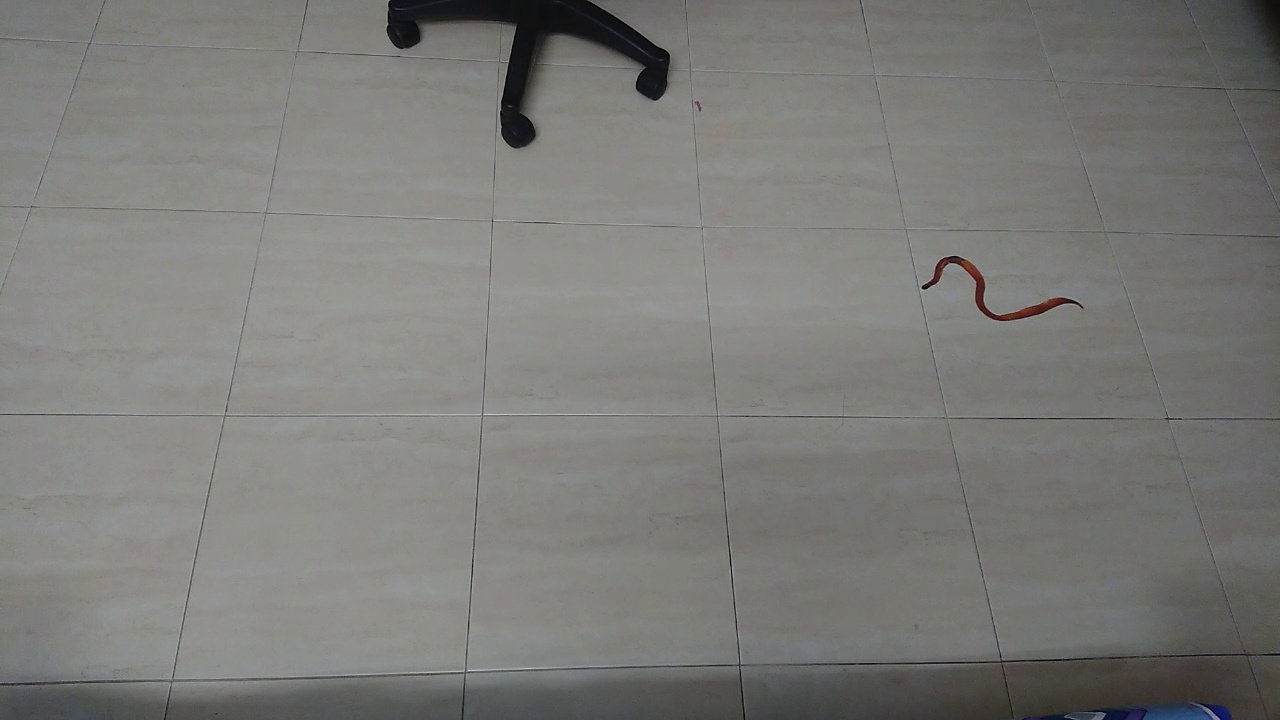snake: (900, 237, 1098, 333)
